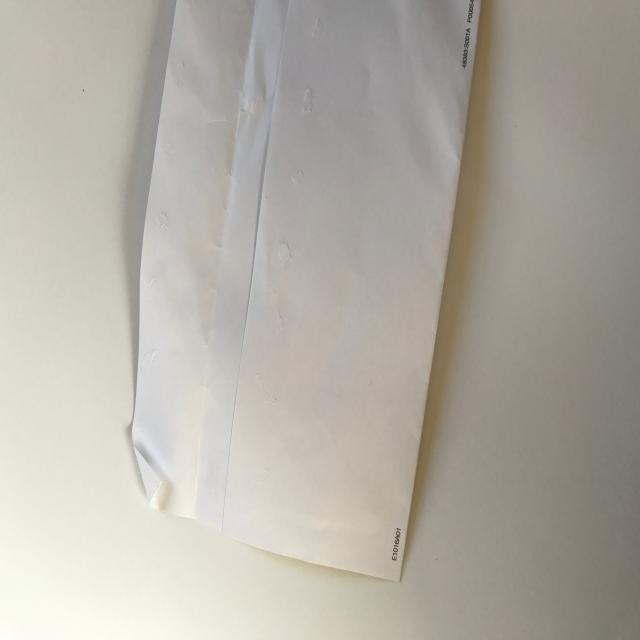paper: (126, 1, 488, 582)
